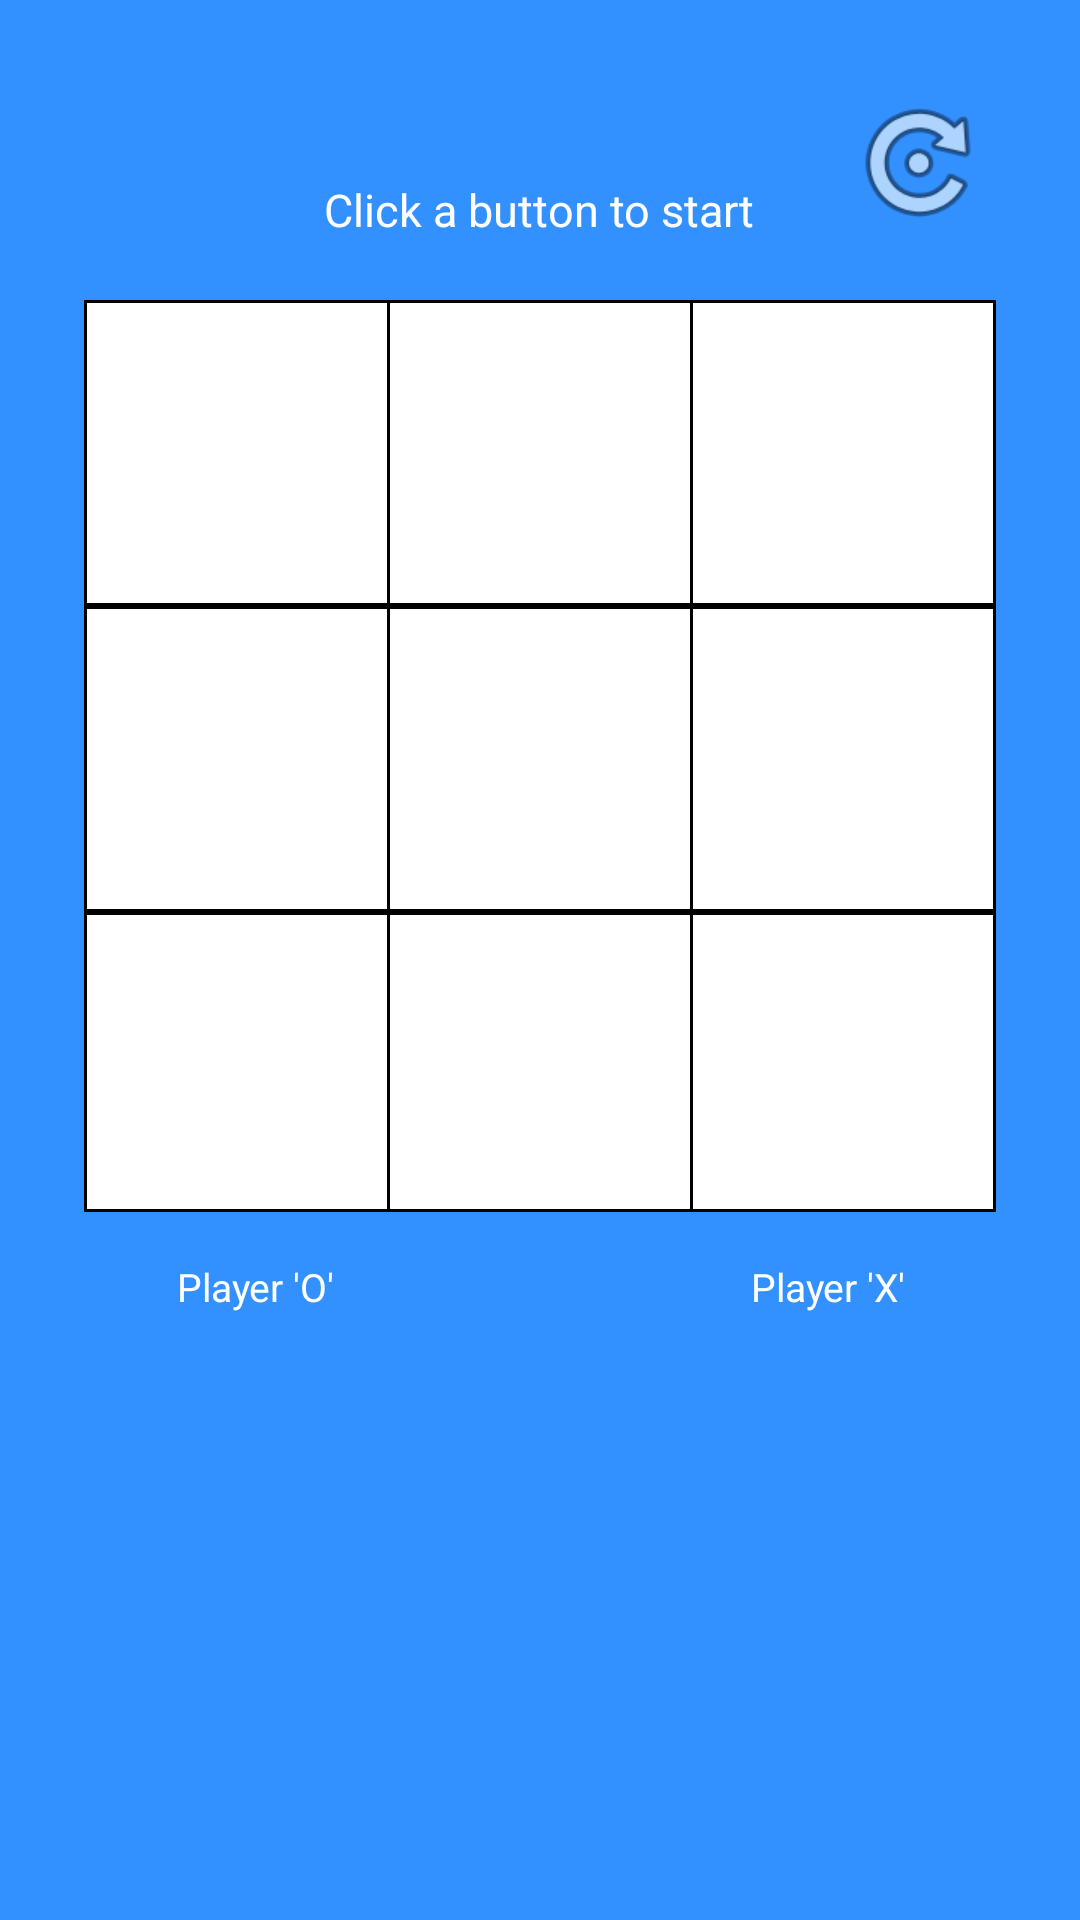

Named icons in this screenshot (1080*1920) and their bounding boxes, (left=x1, top=y1, right=x2, bottom=y2):
rotate: (left=865, top=109, right=971, bottom=217)
